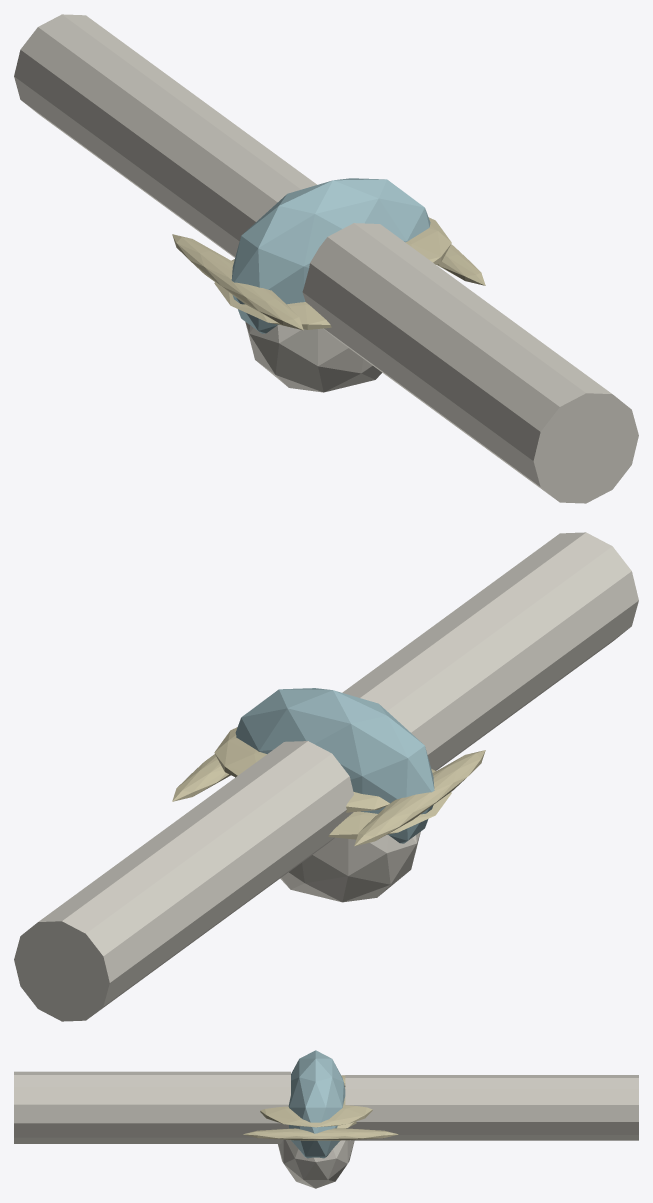
File: knee-low.glb
3 views of the same model, one above another, from view 1: azimuth 30°, elevation 25°; view 2: azimuth 150°, elevation 25°; view 3: azimuth 270°, elevation 25° (orthographic). The views are drawn at different scales.
Visible parts, largest first — view 1: femur_distal, tibia, knee_cartilage_proxy, patella, medial_collateral_ligament_proxy, acl_proxy, pcl_proxy, lateral_collateral_ligament_proxy; view 2: tibia, femur_distal, knee_cartilage_proxy, patella, medial_collateral_ligament_proxy, pcl_proxy, lateral_collateral_ligament_proxy, acl_proxy; view 3: femur_distal, tibia, knee_cartilage_proxy, patella, lateral_collateral_ligament_proxy, pcl_proxy.
Boxes of the visible parts, <box> form: femur_distal: <box>302,223,638,503</box>; tibia: <box>14,14,316,257</box>; knee_cartilage_proxy: <box>231,178,430,333</box>; patella: <box>245,322,381,392</box>; medial_collateral_ligament_proxy: <box>172,234,303,330</box>; acl_proxy: <box>214,259,331,329</box>; pcl_proxy: <box>405,217,451,264</box>; lateral_collateral_ligament_proxy: <box>436,244,485,285</box>; tibia: <box>14,741,353,1021</box>; femur_distal: <box>342,532,638,770</box>; knee_cartilage_proxy: <box>235,688,434,843</box>; patella: <box>280,831,420,902</box>; medial_collateral_ligament_proxy: <box>354,750,485,846</box>; pcl_proxy: <box>214,727,266,777</box>; lateral_collateral_ligament_proxy: <box>172,754,230,801</box>; acl_proxy: <box>328,769,451,839</box>; femur_distal: <box>14,1071,290,1143</box>; tibia: <box>345,1075,638,1140</box>; knee_cartilage_proxy: <box>288,1050,345,1158</box>; patella: <box>278,1139,354,1188</box>; lateral_collateral_ligament_proxy: <box>243,1128,398,1140</box>; pcl_proxy: <box>260,1088,372,1127</box>.
Size of the model in its own units: 0.8957 by 0.83 by 3.79.
